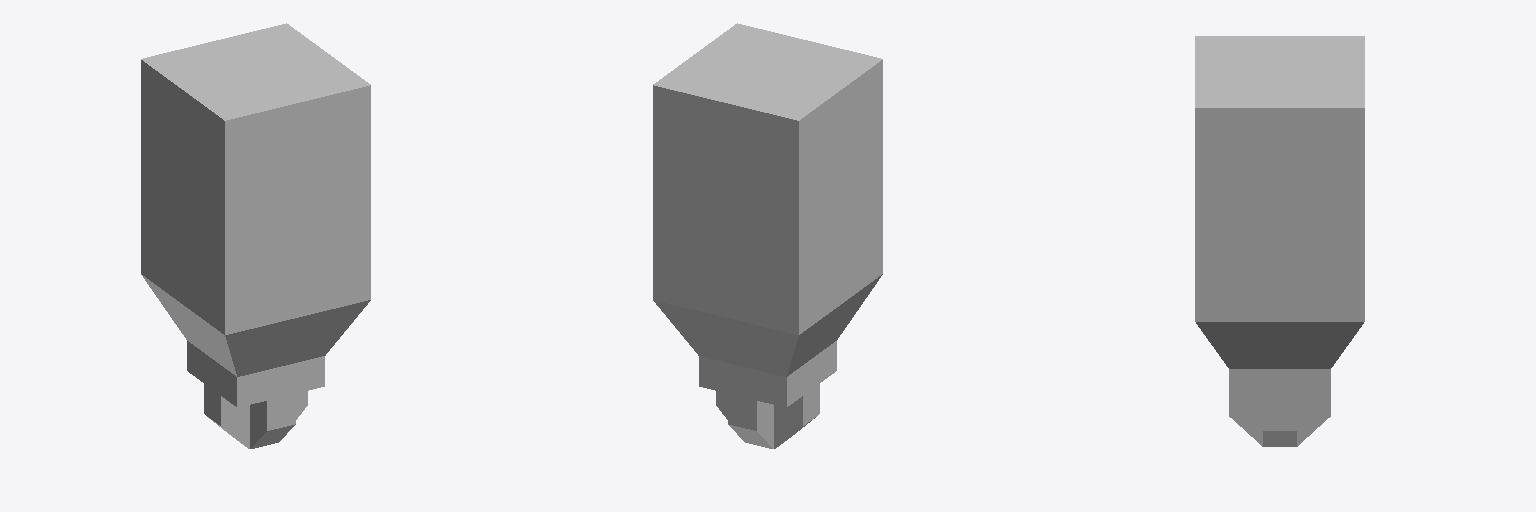
The model's file is hydrojet_head.obj.
3 views of the same model, side by side, from view 1: azimuth 30°, elevation 25°; view 2: azimuth 150°, elevation 25°; view 3: azimuth 270°, elevation 25° (orthographic).
Visible parts, largest first — view 1: Head_Cube.000; view 2: Head_Cube.000; view 3: Head_Cube.000.
Part boxes in pixels (x1,y1,x2,y2): Head_Cube.000: (141, 23, 370, 448); Head_Cube.000: (653, 23, 882, 448); Head_Cube.000: (1195, 36, 1364, 446).
Size of the model in its own units: 0.3125 by 0.75 by 0.3125.